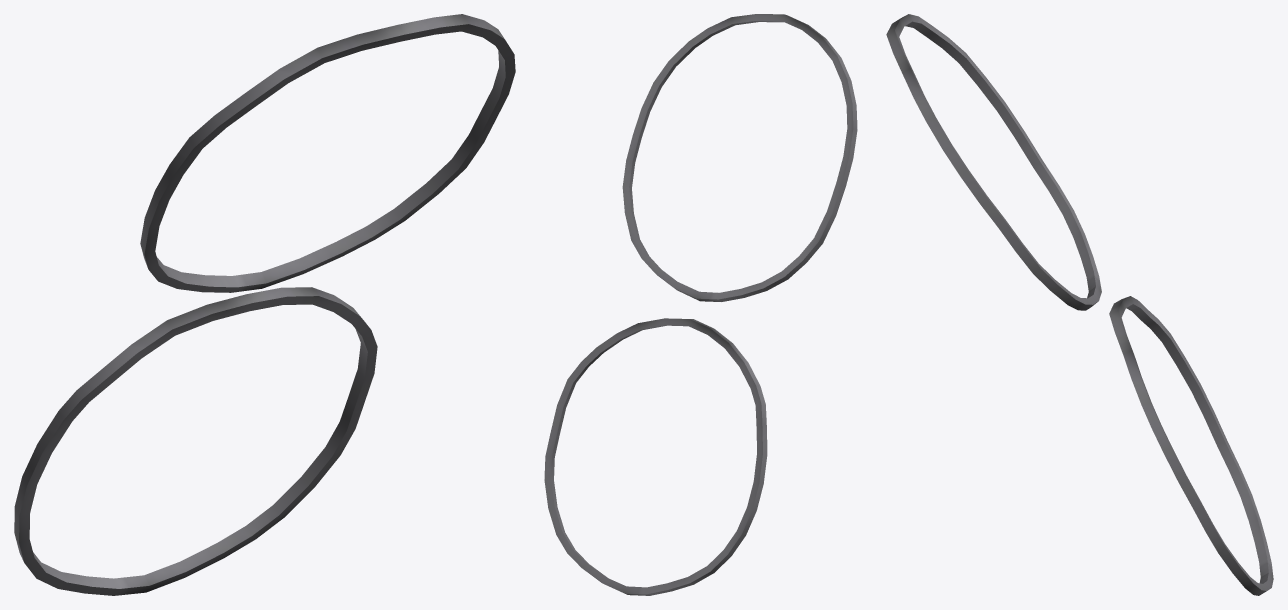
File: baiquan01.FBX
3 renders of one model, left to right at view 1: azimuth 30°, elevation 25°; view 2: azimuth 150°, elevation 25°; view 3: azimuth 270°, elevation 25°, orthographic. The views are drawn at different scales.
Parts seen in each view (by area): view 1: baiquan01; view 2: baiquan01; view 3: baiquan01.
Boxes of the visible parts, box(x1,y1,x2,y2) form: baiquan01: box(14, 14, 515, 595); baiquan01: box(544, 14, 857, 595); baiquan01: box(886, 14, 1273, 595).
Bounding box in the file's own units: 31.54 × 67 × 42.47.
